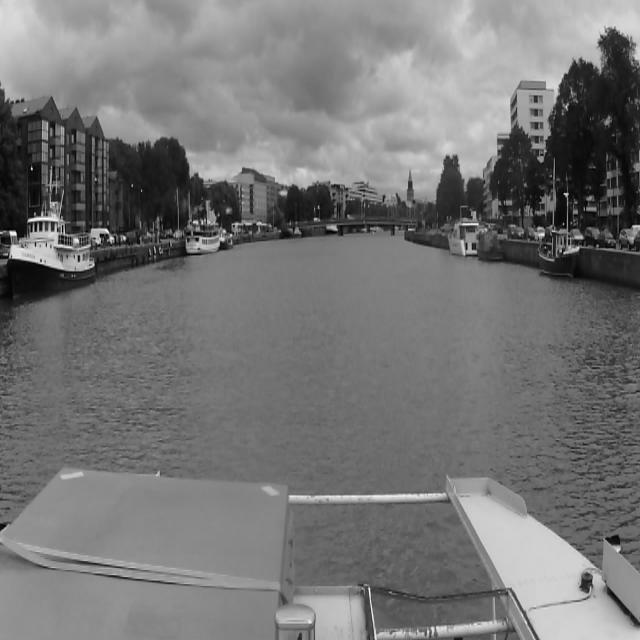ship: (7, 168, 95, 294), (538, 228, 582, 276), (472, 222, 510, 267), (448, 210, 476, 256), (185, 223, 219, 253), (219, 227, 233, 249), (282, 220, 292, 238), (295, 222, 302, 236)
